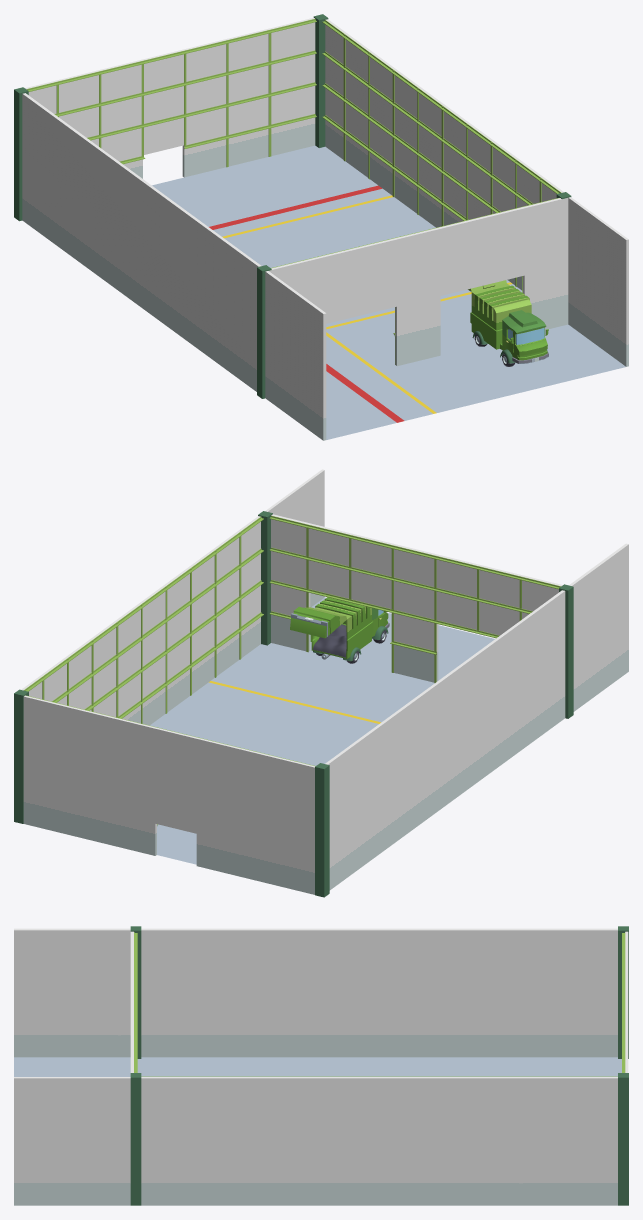
The model's file is plantaEscenario.fbx.
3 renders of one model, top to bottom at view 1: azimuth 30°, elevation 25°; view 2: azimuth 150°, elevation 25°; view 3: azimuth 270°, elevation 25°, orthographic.
Visible parts, largest first — view 1: suelo, pared_back, pared_front, pared_izq, pared_drc, Camion_Verde; view 2: pared_izq, pared_back, pared_drc, pared_front, suelo, Camion_Verde; view 3: pared_back, pared_front, suelo, pared_drc, pared_izq.
Part boxes in pixels (<box>): suelo: <box>152,145,625,439</box>; pared_back: <box>22,93,326,440</box>; pared_front: <box>322,19,628,366</box>; pared_izq: <box>14,14,328,221</box>; pared_drc: <box>257,192,571,398</box>; Camion_Verde: <box>468,280,548,366</box>; pared_izq: <box>14,689,329,897</box>; pared_back: <box>325,543,628,890</box>; pared_drc: <box>258,511,573,718</box>; pared_front: <box>21,469,324,725</box>; suelo: <box>150,597,494,864</box>; Camion_Verde: <box>290,597,389,663</box>; pared_back: <box>14,928,617,1057</box>; pared_front: <box>14,1076,617,1205</box>; suelo: <box>14,1057,621,1076</box>; pared_drc: <box>130,926,141,1205</box>; pared_izq: <box>618,926,628,1205</box>.
Bounding box in the file's own units: 51 × 20.43 × 87.6.
